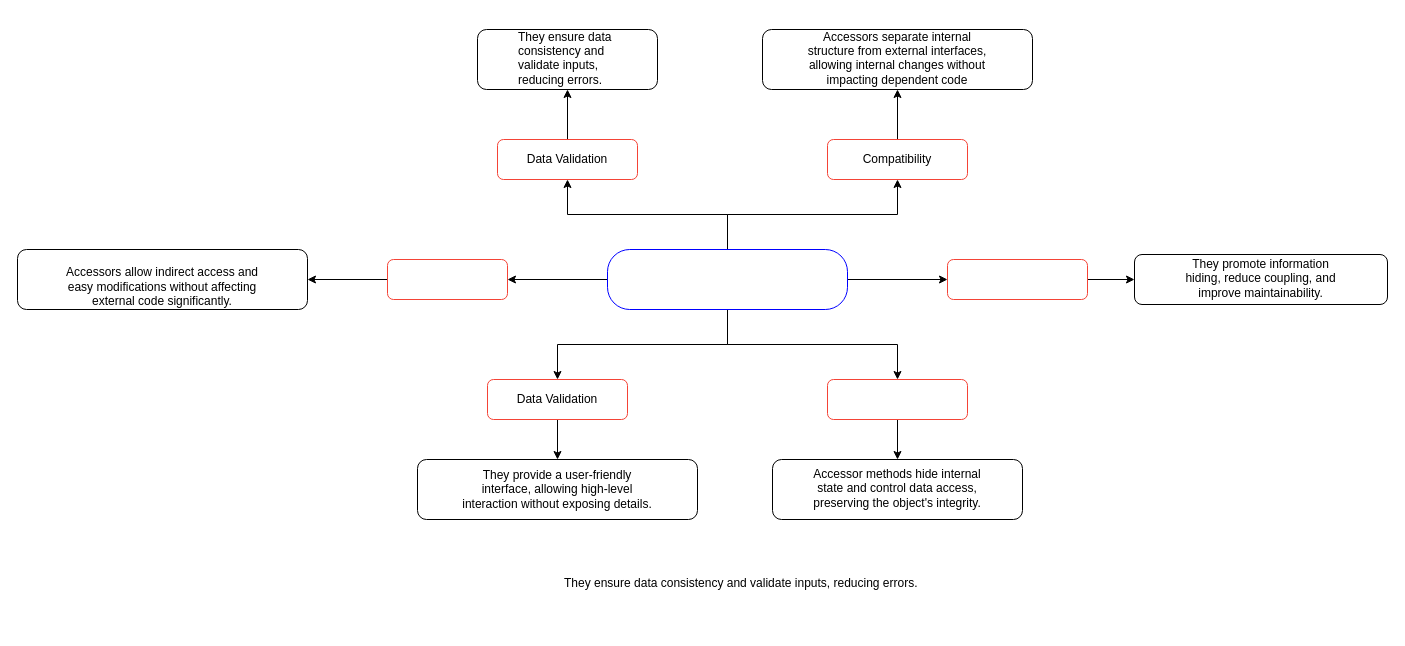
The diagram is 1405 pixels wide and 646 high, and some of its shapes have lost their labels. The centre of each missing label's shape, as x and y in pixels:
"Encapsulation" belongs at point (897, 399).
"Flexibility" belongs at point (447, 279).
"Good Coding Practice" belongs at point (1017, 279).
"When should accessor methods be used?" belongs at point (727, 279).
